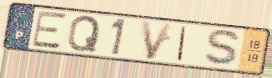1: (109, 17, 127, 58)
E: (31, 11, 68, 51)
I: (175, 25, 189, 63)
Q: (65, 15, 102, 53)
S: (202, 28, 244, 68)
V: (139, 20, 175, 62)
